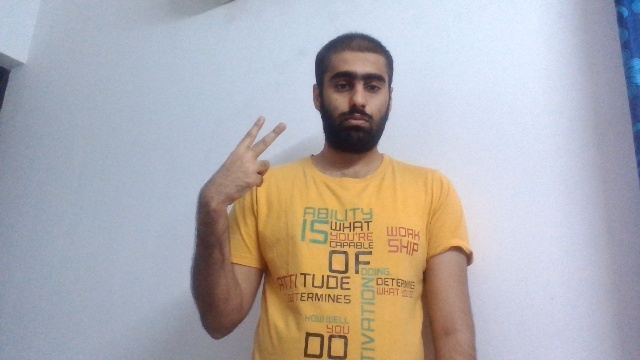scissors: (195, 114, 287, 207)
